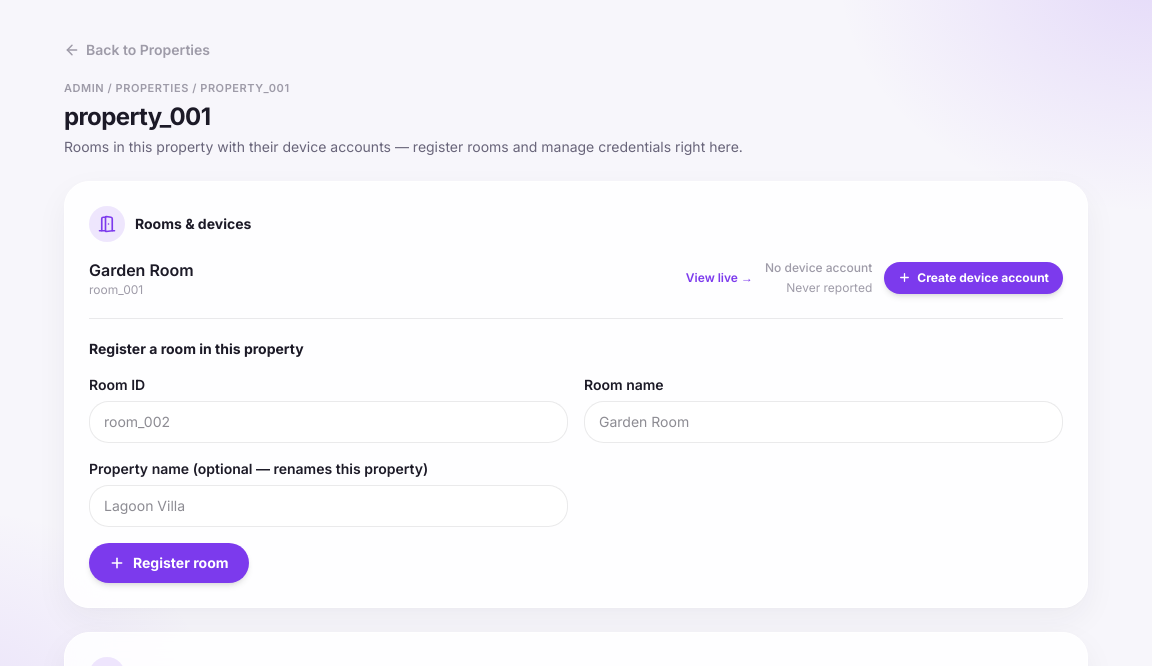
Test: property detail — per-room device credentials (slice 05) › creates a device account for a room and shows the credential once
The image size is (1152, 666).
Click the button "Create device account" at (974, 278), box 884,262 -> 1063,294
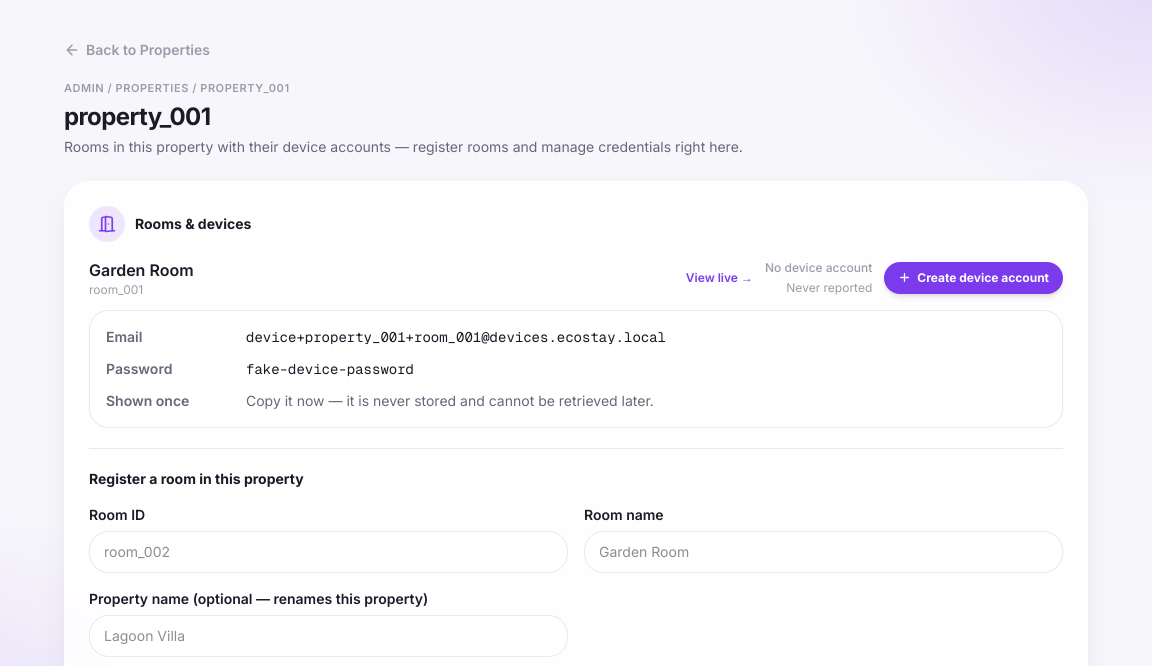
Now the text "device+property_001+room_001@devices.ecostay.local" is shown, box 246,328 -> 666,346
Now the text "fake-device-password" is shown, box 246,360 -> 414,378
Now the text "Shown once" is shown, box 106,392 -> 189,408
